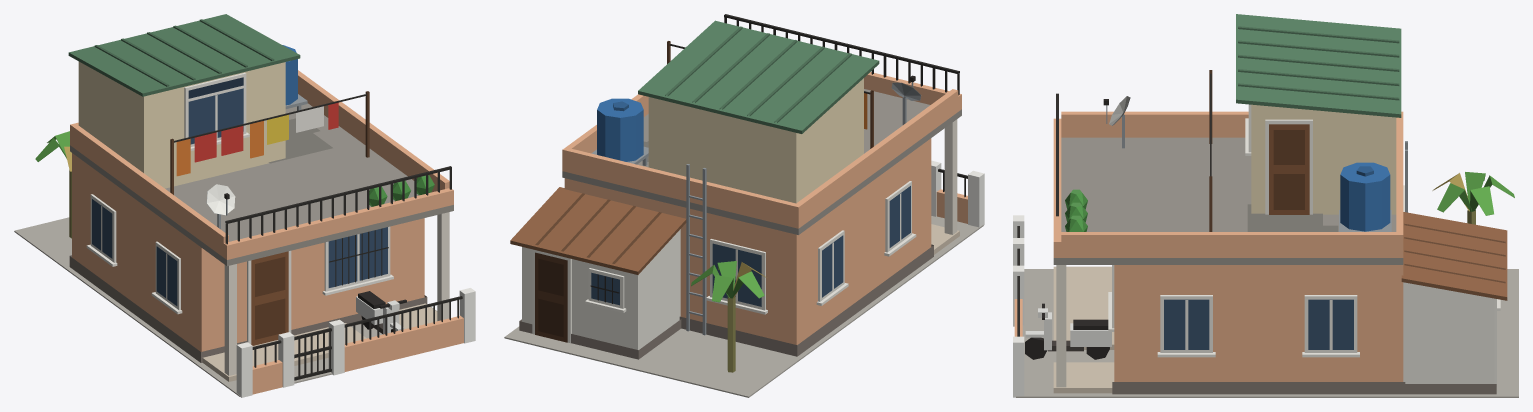
File: rumah_01.glb
3 views of the same model, side by side, from view 1: azimuth 30°, elevation 25°; view 2: azimuth 150°, elevation 25°; view 3: azimuth 270°, elevation 25° (orthographic). The views are drawn at different scales.
Visible parts, largest first — view 1: rumah_01; view 2: rumah_01; view 3: rumah_01.
Boxes of the visible parts, x1,y1,x2,y2 form: rumah_01: (14, 14, 475, 397); rumah_01: (504, 14, 984, 397); rumah_01: (1013, 14, 1518, 397).
Size of the model in its own units: 5.96 by 5.63 by 9.98.
